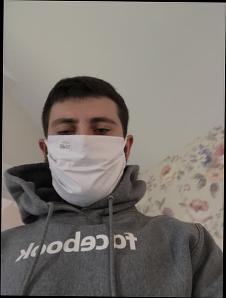with_mask: (46, 109, 126, 204)
